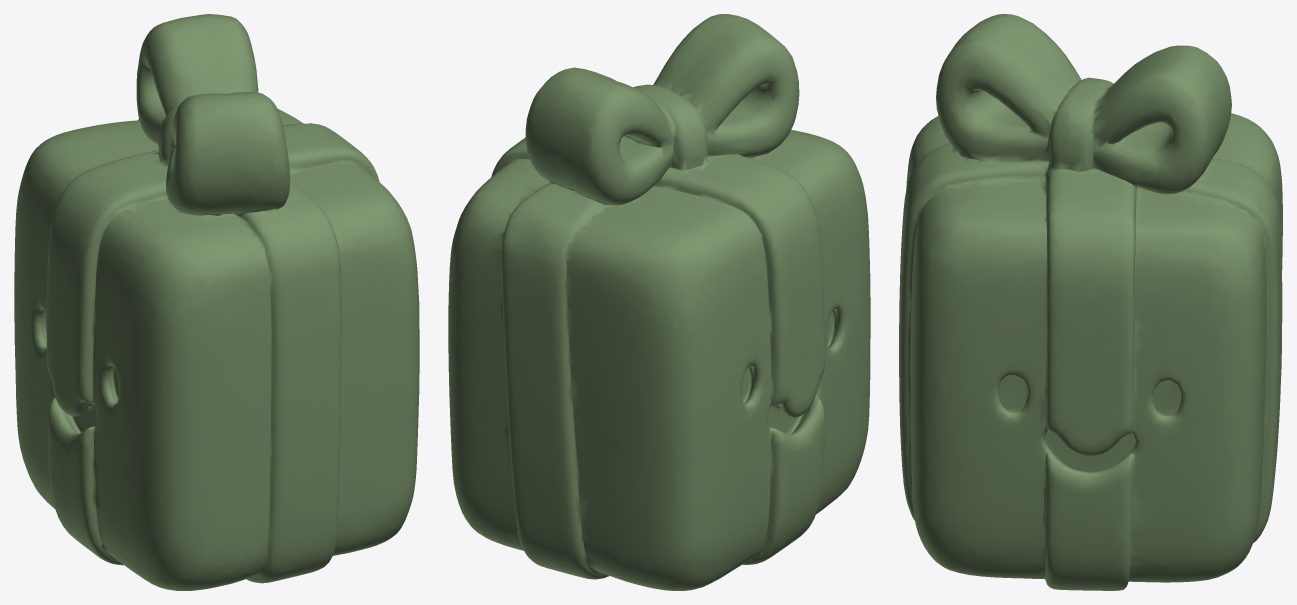
The model's file is gift-box.glb.
3 views of the same model, side by side, from view 1: azimuth 30°, elevation 25°; view 2: azimuth 150°, elevation 25°; view 3: azimuth 270°, elevation 25° (orthographic). The views are drawn at different scales.
Parts seen in each view (by area): view 1: tripo_printable_source; view 2: tripo_printable_source; view 3: tripo_printable_source.
Part boxes in pixels (x1,y1,x2,y2): tripo_printable_source: (14, 14, 419, 590); tripo_printable_source: (448, 14, 870, 590); tripo_printable_source: (899, 14, 1282, 590).
Size of the model in its own units: 66.37 by 100 by 70.
